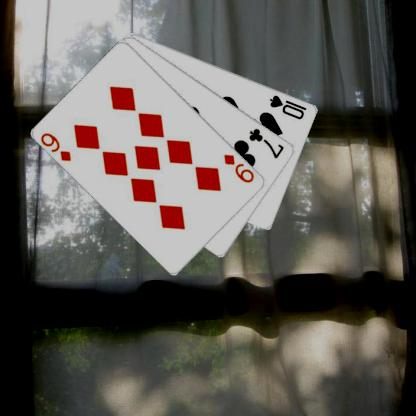10S: (267, 92, 309, 121)
7C: (246, 125, 286, 160)
9D: (221, 152, 256, 184), (38, 130, 73, 162)
